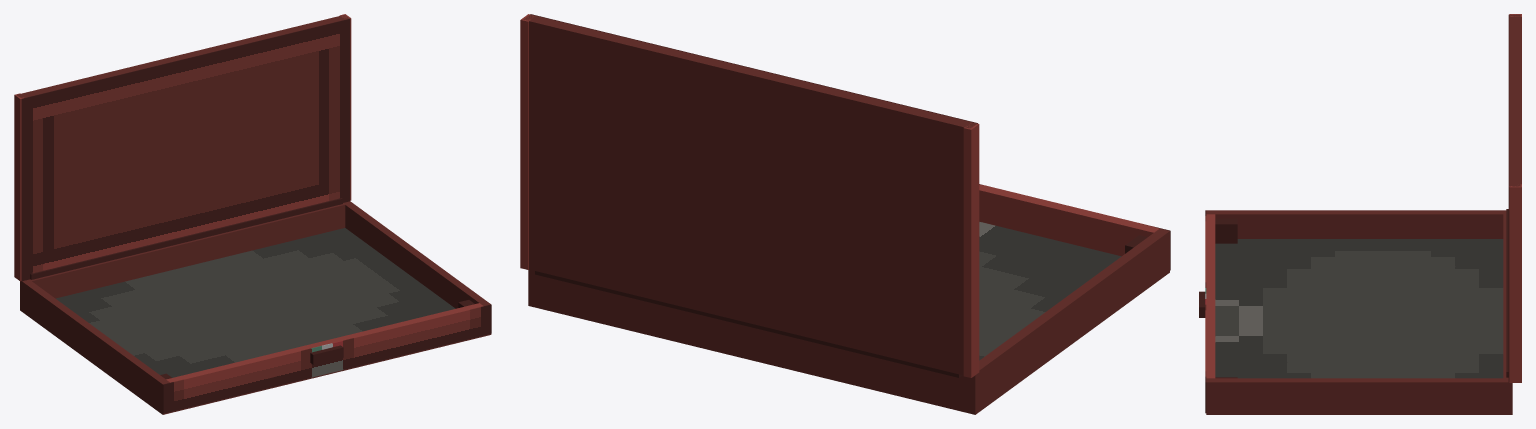
The model's file is CMU3DPizzaGalaxyBoxCloudOpenStudy.glb.
3 renders of one model, left to right at view 1: azimuth 30°, elevation 25°; view 2: azimuth 150°, elevation 25°; view 3: azimuth 270°, elevation 25°, orthographic. The views are drawn at different scales.
Visible parts, largest first — view 1: original inner lid and border, original empty tray interior, original front print and closure tab, rear folded rim, left hollow carton wall, right hollow carton wall, cardboard hinge fold, upright solid lid, folded cardboard bottom, front folded rim, open lid left doubled edge, folded closure tongue; view 2: upright solid lid, rear folded rim, original empty tray interior, left hollow carton wall, folded cardboard bottom, front folded rim, open lid left doubled edge, open lid right doubled edge, cardboard hinge fold; view 3: original empty tray interior, right hollow carton wall, left hollow carton wall, open lid right doubled edge, folded cardboard bottom, upright solid lid, front folded rim, original inner lid and border, rear folded rim, corner overlap tab 1, cardboard hinge fold, original front print and closure tab (+1 smaller).
Boxes of the visible parts, x1,y1,x2,y2 form: original inner lid and border: (21,18,350,281); original empty tray interior: (55,228,455,377); original front print and closure tab: (163,304,491,413); rear folded rim: (30,203,345,298); left hollow carton wall: (20,279,169,407); right hollow carton wall: (343,201,490,308); cardboard hinge fold: (30,198,342,279); upright solid lid: (16,15,349,97); folded cardboard bottom: (20,304,491,414); front folded rim: (166,303,483,382); open lid left doubled edge: (14,93,23,281); folded closure tongue: (310,345,343,364); upright solid lid: (523,14,977,375); rear folded rim: (538,275,965,402); original empty tray interior: (979,221,1121,360); left hollow carton wall: (965,228,1169,405); folded cardboard bottom: (528,263,1169,414); front folded rim: (979,184,1159,256); open lid left doubled edge: (963,123,979,377); open lid right doubled edge: (520,14,534,269); cardboard hinge fold: (535,271,962,377); original empty tray interior: (1215,239,1503,378); right hollow carton wall: (1206,378,1512,407); left hollow carton wall: (1206,210,1506,238); open lid right doubled edge: (1509,184,1521,382); folded cardboard bottom: (1206,407,1512,414); upright solid lid: (1509,14,1520,186); front folded rim: (1206,214,1215,378); original inner lid and border: (1508,15,1509,381); rear folded rim: (1503,214,1508,378); corner overlap tab 1: (1215,218,1237,243); cardboard hinge fold: (1506,209,1508,377); original front print and closure tab: (1205,210,1206,413).
Bounding box in the file's own units: 0.9768 × 0.6 × 0.769.
6 materials, 3 textured.
